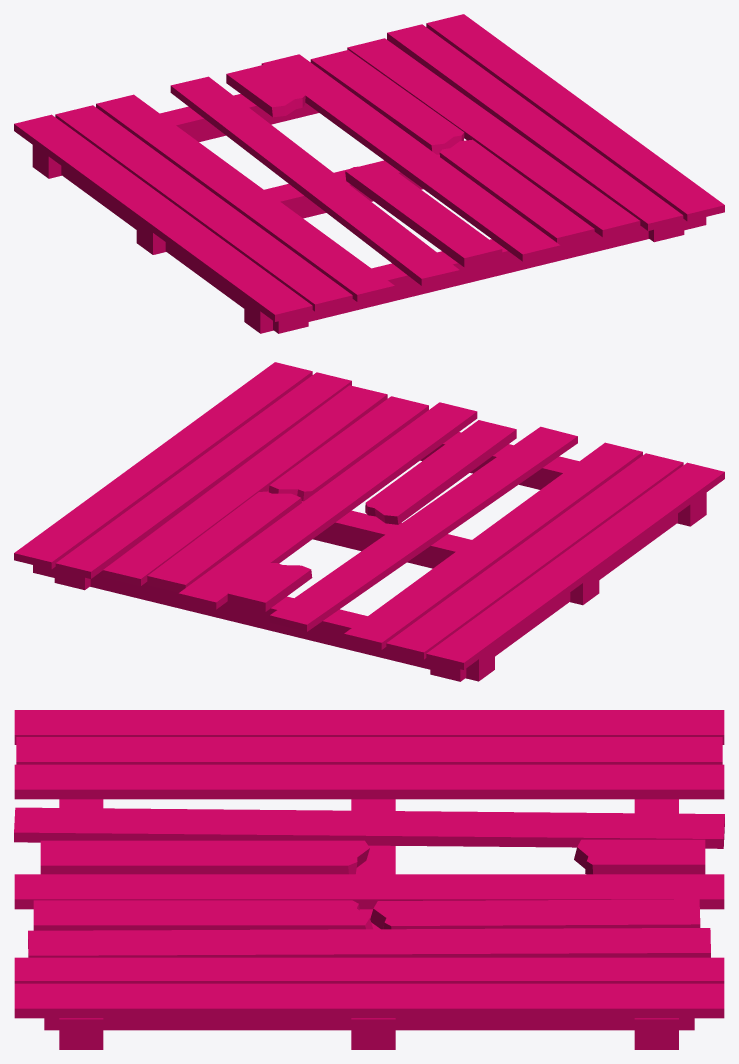
Rendered from Bastion_Floor_03_Lod0.fbx.
3 views of the same model, one above another, from view 1: azimuth 30°, elevation 25°; view 2: azimuth 150°, elevation 25°; view 3: azimuth 270°, elevation 25° (orthographic). The views are drawn at different scales.
Parts seen in each view (by area): view 1: Bastion_Floor_03_Lod0; view 2: Bastion_Floor_03_Lod0; view 3: Bastion_Floor_03_Lod0.
Part boxes in pixels (x1=…): Bastion_Floor_03_Lod0: x1=14, y1=14, x2=724, y2=333; Bastion_Floor_03_Lod0: x1=14, y1=362, x2=724, y2=681; Bastion_Floor_03_Lod0: x1=14, y1=710, x2=724, y2=1049.
Bounding box in the file's own units: 298 × 22.97 × 300.
